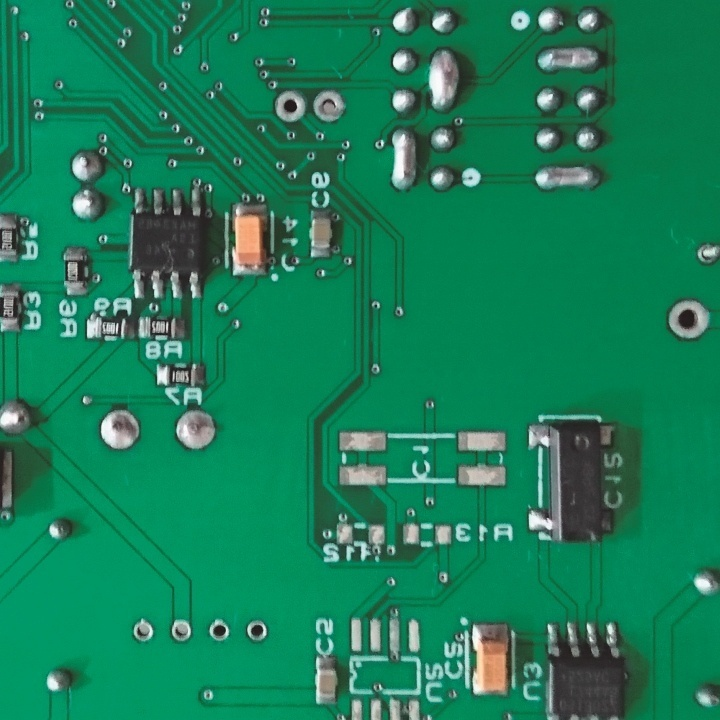F: (664, 294, 708, 340), (172, 406, 216, 452), (96, 406, 141, 449), (312, 88, 348, 126), (275, 89, 307, 124), (165, 615, 195, 644), (130, 617, 158, 644), (695, 237, 720, 266), (243, 617, 269, 644), (209, 616, 233, 643)
P: (538, 42, 607, 78), (428, 46, 460, 113), (533, 165, 603, 193), (392, 126, 418, 195)
